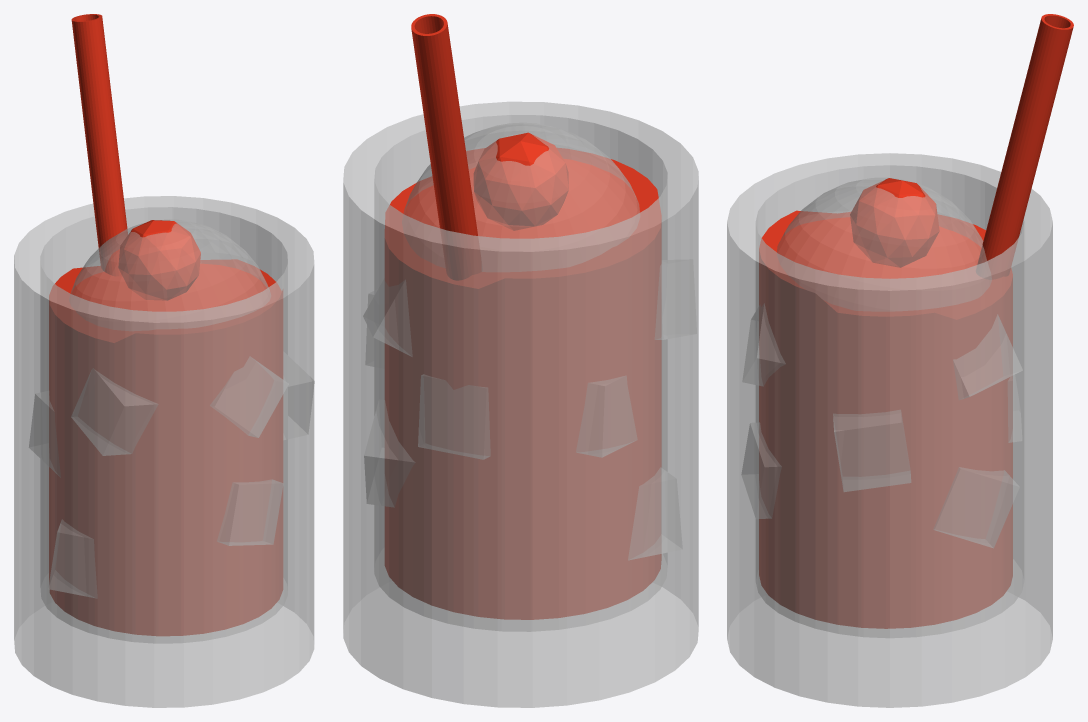
Rendered from bloodmoon-cup3.glb.
3 views of the same model, side by side, from view 1: azimuth 30°, elevation 25°; view 2: azimuth 150°, elevation 25°; view 3: azimuth 270°, elevation 25° (orthographic). The views are drawn at different scales.
Visible parts, largest first — view 1: Cylinder, Cylinder.001, Sphere, Cylinder.002, Icosphere, Cube.006, Cube.007, Cube.008, Cube.005, Cube.001, Cube.004; view 2: Cylinder, Cylinder.001, Sphere, Cylinder.002, Icosphere, Cube.005, Cube.006, Cube.002, Cube.004, Cube.003, Cube; view 3: Cylinder, Cylinder.001, Sphere, Cylinder.002, Icosphere, Cube.001, Cube.002, Cube.007, Cube.003, Cube.008.
Boxes of the visible parts, x1=… form: Cylinder: x1=14, y1=196, x2=314, y2=707; Cylinder.001: x1=49, y1=259, x2=282, y2=635; Sphere: x1=70, y1=219, x2=270, y2=311; Cylinder.002: x1=71, y1=14, x2=127, y2=276; Icosphere: x1=118, y1=220, x2=200, y2=300; Cube.006: x1=71, y1=371, x2=153, y2=455; Cube.007: x1=218, y1=480, x2=283, y2=545; Cube.008: x1=211, y1=358, x2=288, y2=437; Cube.005: x1=48, y1=521, x2=95, y2=597; Cube.001: x1=284, y1=356, x2=314, y2=439; Cube.004: x1=29, y1=391, x2=59, y2=475; Cylinder: x1=343, y1=101, x2=698, y2=707; Cylinder.001: x1=385, y1=148, x2=661, y2=619; Sphere: x1=403, y1=122, x2=639, y2=238; Cylinder.002: x1=411, y1=14, x2=482, y2=280; Icosphere: x1=473, y1=132, x2=568, y2=230; Cube.005: x1=629, y1=468, x2=682, y2=559; Cube.006: x1=655, y1=259, x2=696, y2=339; Cube.002: x1=364, y1=400, x2=398, y2=506; Cube.004: x1=577, y1=382, x2=635, y2=457; Cube.003: x1=363, y1=280, x2=410, y2=355; Cube: x1=418, y1=375, x2=489, y2=459; Cylinder: x1=727, y1=153, x2=1052, y2=707; Cylinder.001: x1=759, y1=210, x2=1012, y2=628; Sphere: x1=777, y1=177, x2=986, y2=278; Cylinder.002: x1=976, y1=14, x2=1073, y2=279; Icosphere: x1=850, y1=178, x2=939, y2=267; Cube.001: x1=833, y1=413, x2=910, y2=491; Cube.002: x1=934, y1=471, x2=1019, y2=547; Cube.007: x1=741, y1=423, x2=777, y2=518; Cube.003: x1=960, y1=316, x2=1022, y2=399; Cube.008: x1=742, y1=306, x2=780, y2=385.
Size of the model in its own units: 0.1594 by 0.3348 by 0.1696.
